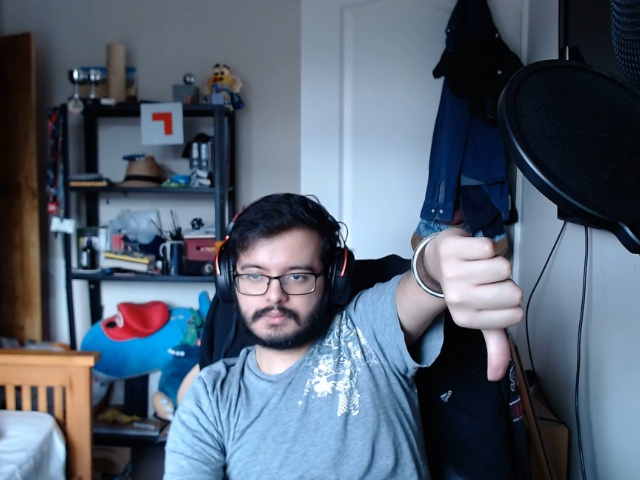Thumbs down: (428, 216, 534, 393)
